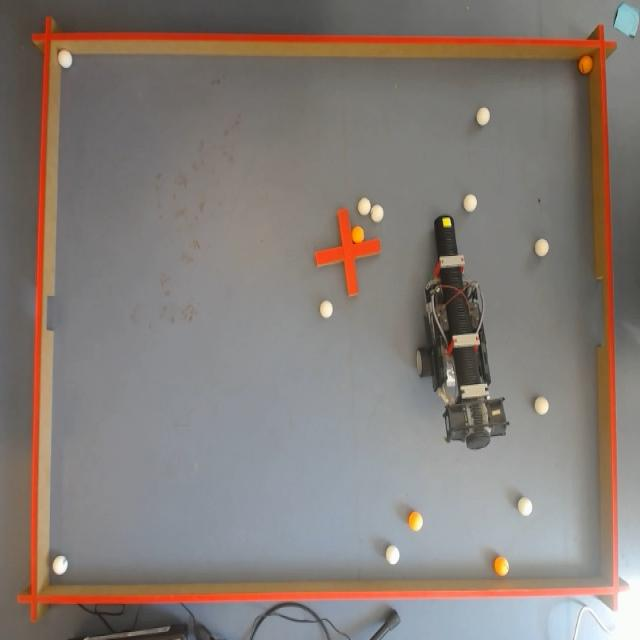orange: (494, 554, 511, 575), (409, 512, 423, 532), (353, 225, 364, 245), (580, 56, 592, 74)
robot: (415, 216, 497, 440)
robot-front: (434, 216, 456, 253)
white: (58, 49, 72, 70), (536, 398, 551, 416), (536, 237, 550, 256), (54, 555, 68, 574), (518, 498, 532, 517), (388, 545, 400, 566), (464, 194, 478, 212), (319, 299, 332, 318), (476, 108, 489, 127), (370, 203, 383, 222), (359, 196, 372, 215)
